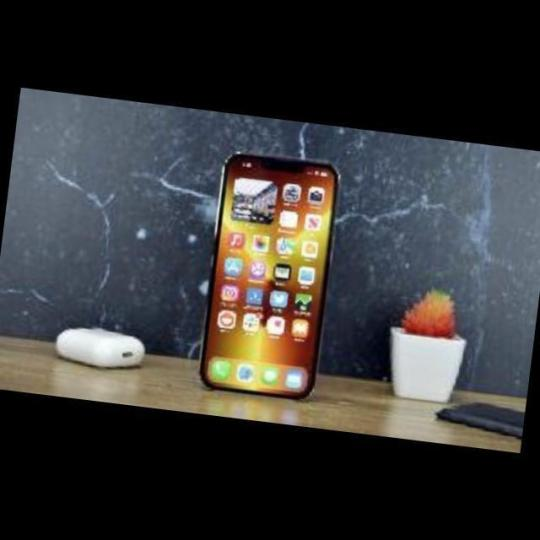phone: (181, 148, 351, 406)
